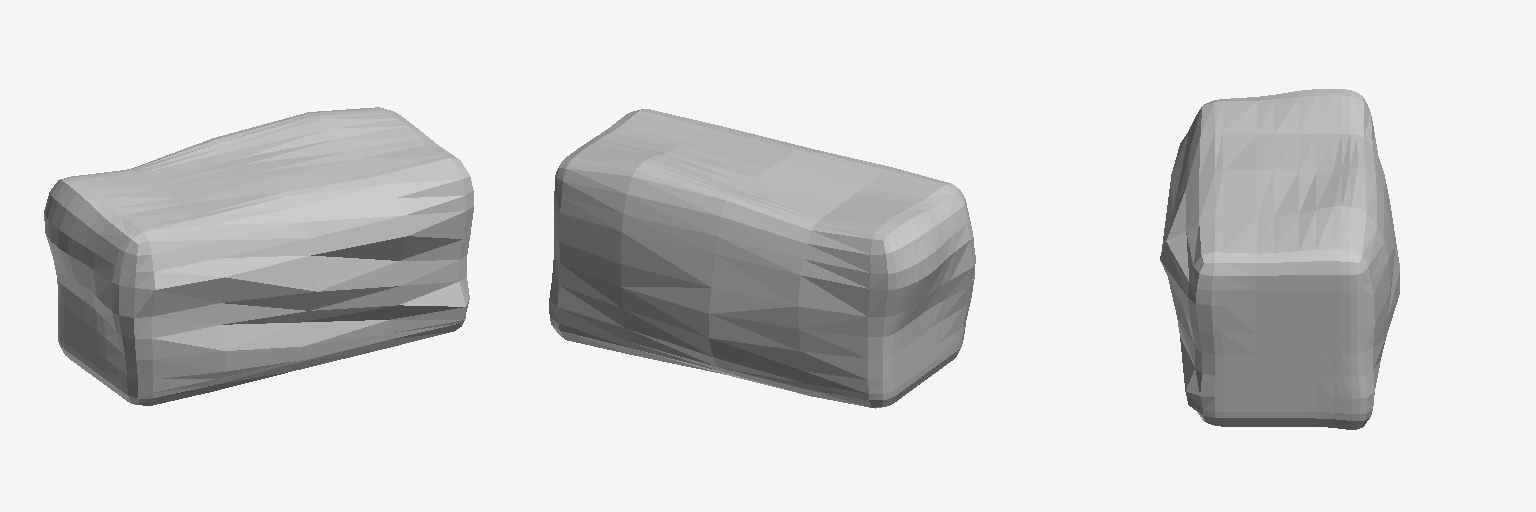
File: env_level1_Canyon_Rock03.obj
3 renders of one model, left to right at view 1: azimuth 30°, elevation 25°; view 2: azimuth 150°, elevation 25°; view 3: azimuth 270°, elevation 25°, orthographic.
Visible parts, largest first — view 1: rockwall_a02; view 2: rockwall_a02; view 3: rockwall_a02.
Boxes of the visible parts, x1=… form: rockwall_a02: x1=44, y1=107, x2=473, y2=405; rockwall_a02: x1=549, y1=109, x2=975, y2=408; rockwall_a02: x1=1160, y1=89, x2=1399, y2=429.
Size of the model in its own units: 3367 by 1703 by 1957.